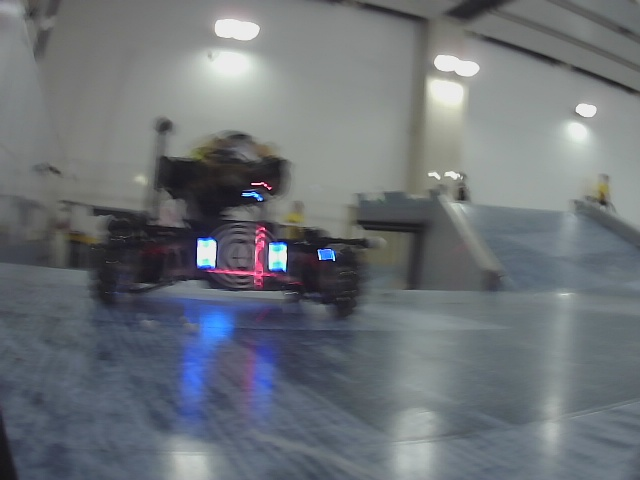lamp: (197, 238, 217, 269), (268, 242, 287, 272)
pair: (196, 239, 287, 272)
